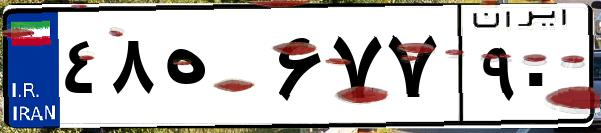0: (525, 38, 570, 115)
4: (57, 26, 110, 100)
6: (270, 28, 330, 110)
7: (385, 28, 445, 110), (330, 28, 385, 110)
8: (110, 28, 158, 98)
9: (475, 38, 525, 113)
ه: (158, 20, 270, 120)
